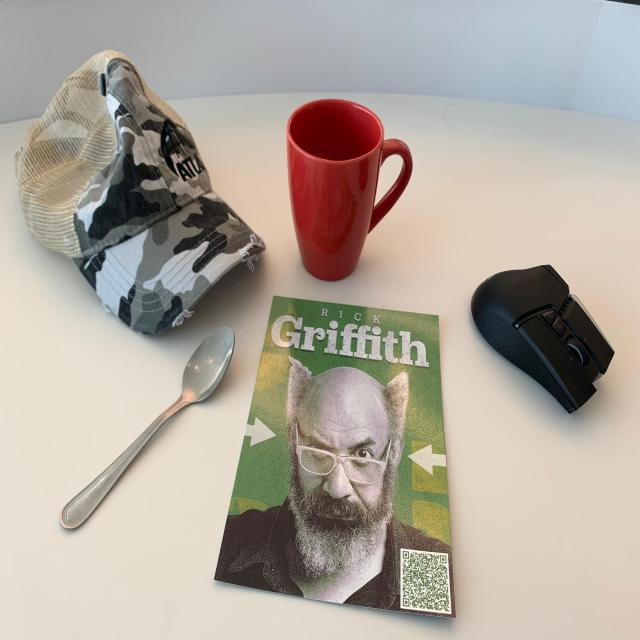Cup: (284, 94, 426, 297)
Mouse: (458, 240, 622, 422)
Spoon: (33, 320, 247, 545)
